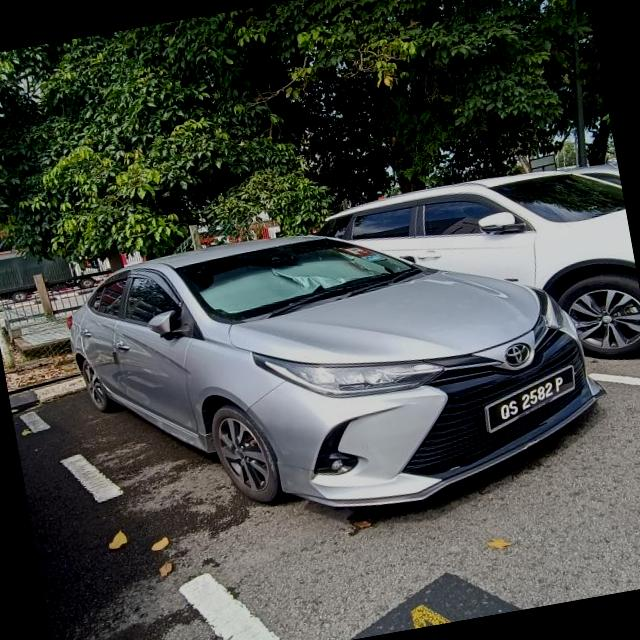ToyotaVios: (56, 181, 620, 556)
